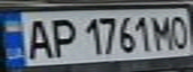1: (78, 15, 103, 55), (133, 14, 154, 52)
6: (115, 14, 139, 54)
7: (97, 14, 118, 54)
A: (21, 16, 54, 61)
M: (151, 12, 175, 52)
O: (166, 12, 193, 50)
P: (45, 16, 78, 57)
